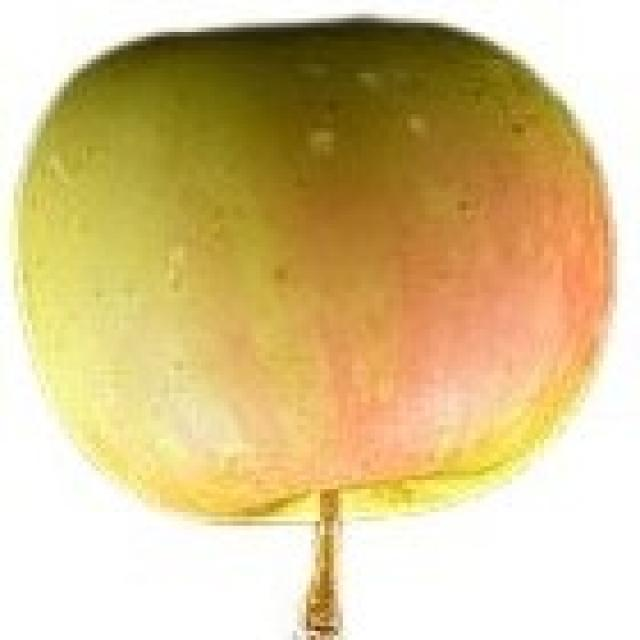75-_ripeness: (18, 21, 627, 522)
